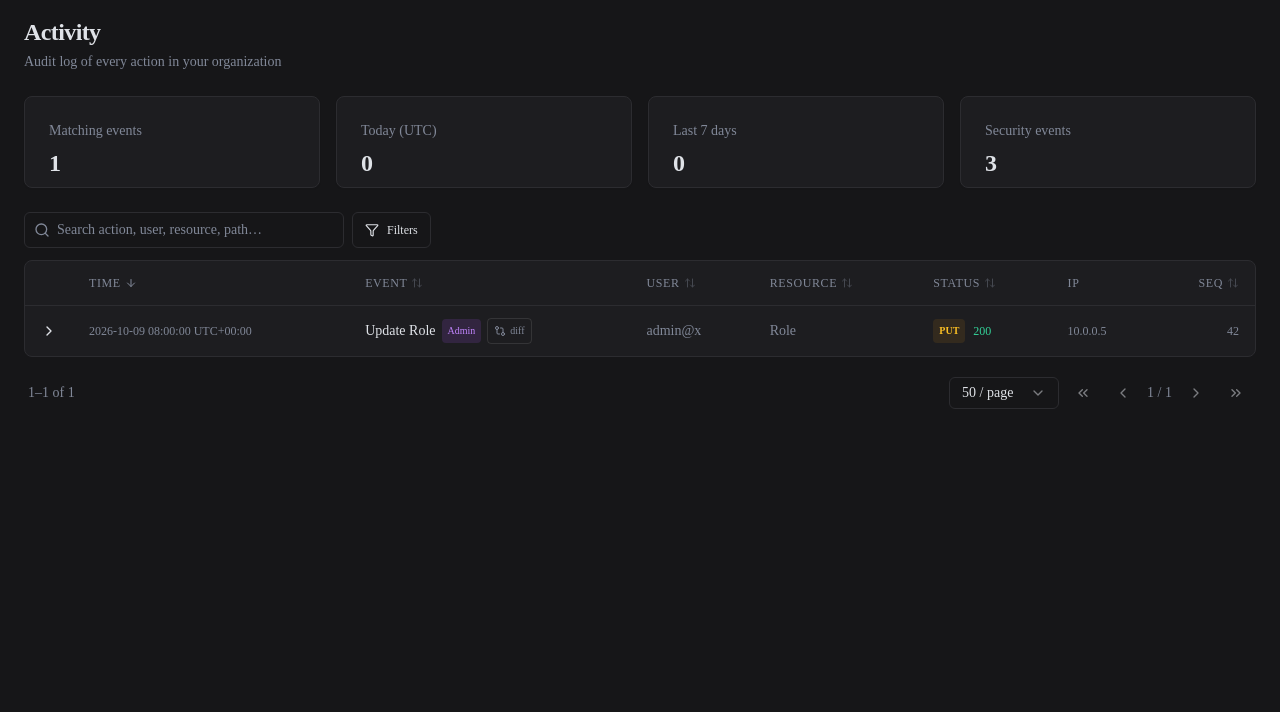
activity page: rows, diff and export gating › expands a row into its details and the before/after diff
Check: the text "Update Role" is shown, box [365,320,436,340]
Check: the text "diff" is shown, box [487,318,532,344]
Click the button named "Expand row" at (49, 330), box [33,314,65,346]
(page scrolled)
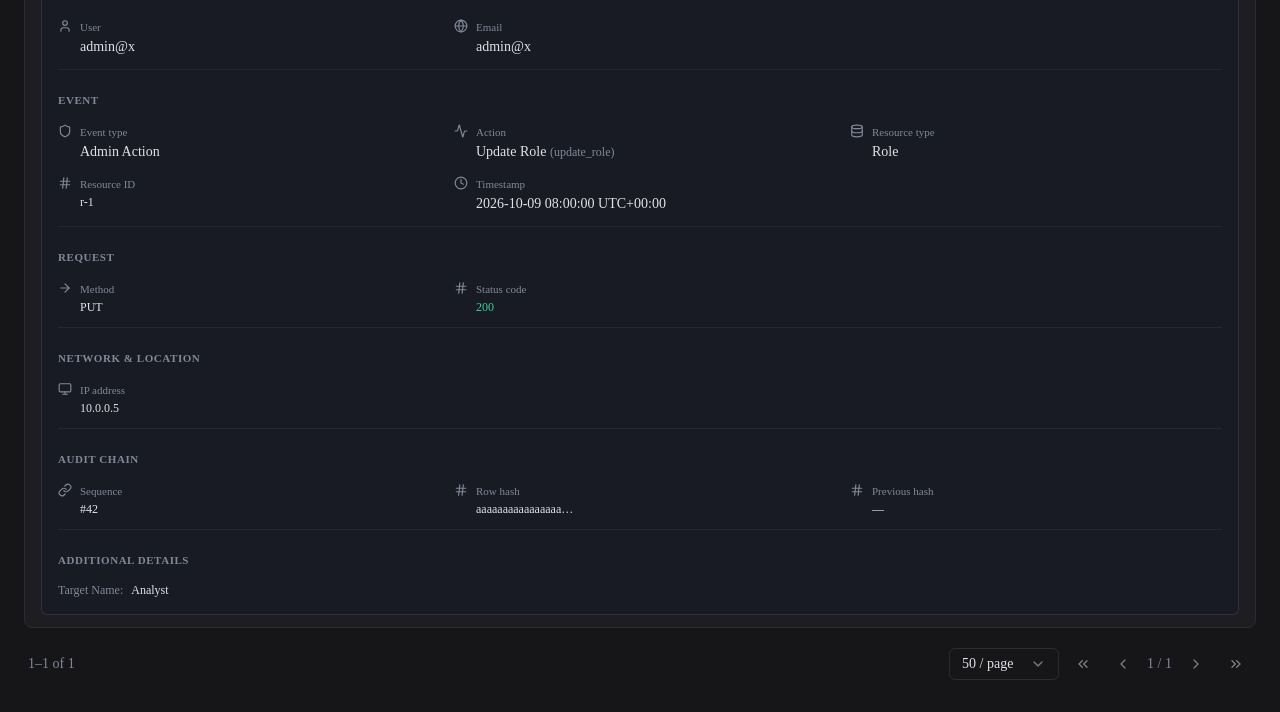
Check: the text "#42" is shown, box [80,502,98,516]
Check: the text "Target Name:" is shown, box [58,582,123,598]
